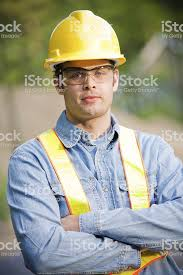Person_wearing_helmet: (40, 5, 129, 84)
